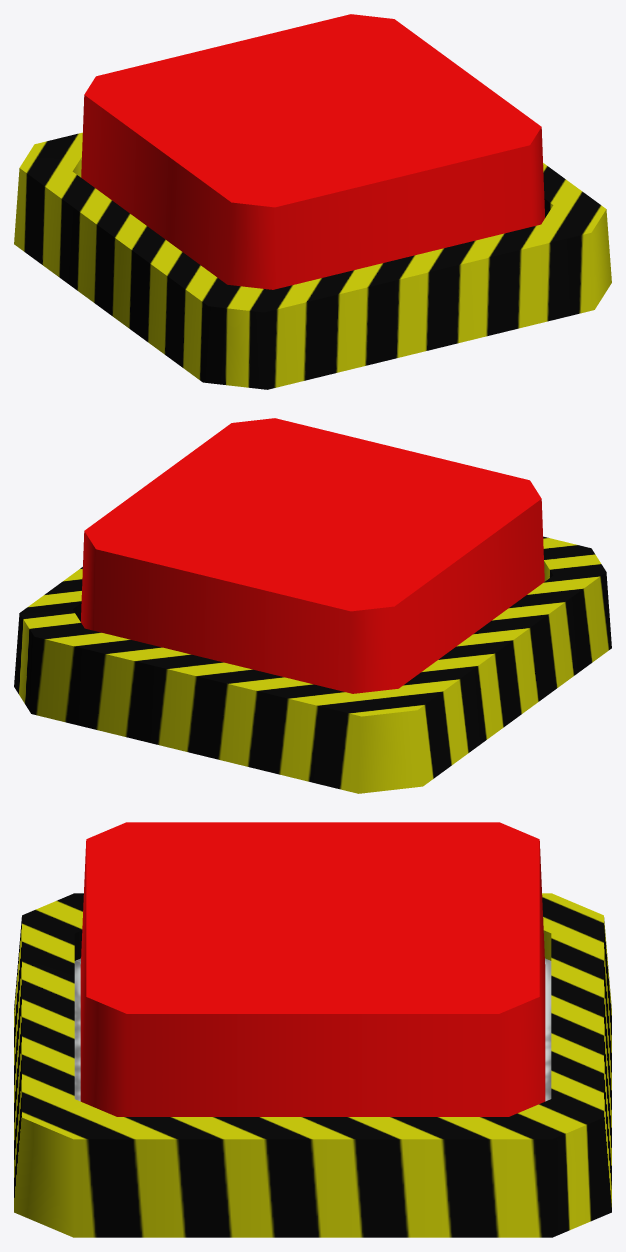
The model's file is switch.fbx.
The picture shows the model from 3 angles, top to bottom: view 1: azimuth 30°, elevation 25°; view 2: azimuth 150°, elevation 25°; view 3: azimuth 270°, elevation 25°; orthographic projection. The views are drawn at different scales.
Visible parts, largest first — view 1: switch2, switch; view 2: switch2, switch; view 3: switch2, switch.
Boxes of the visible parts, x1,y1,x2,y2 form: switch2: (81,14,544,289); switch: (14,132,611,389); switch2: (81,418,544,693); switch: (14,536,611,793); switch2: (80,822,545,1116); switch: (14,893,611,1237).
Size of the model in its own units: 22.73 by 8.11 by 22.73.
